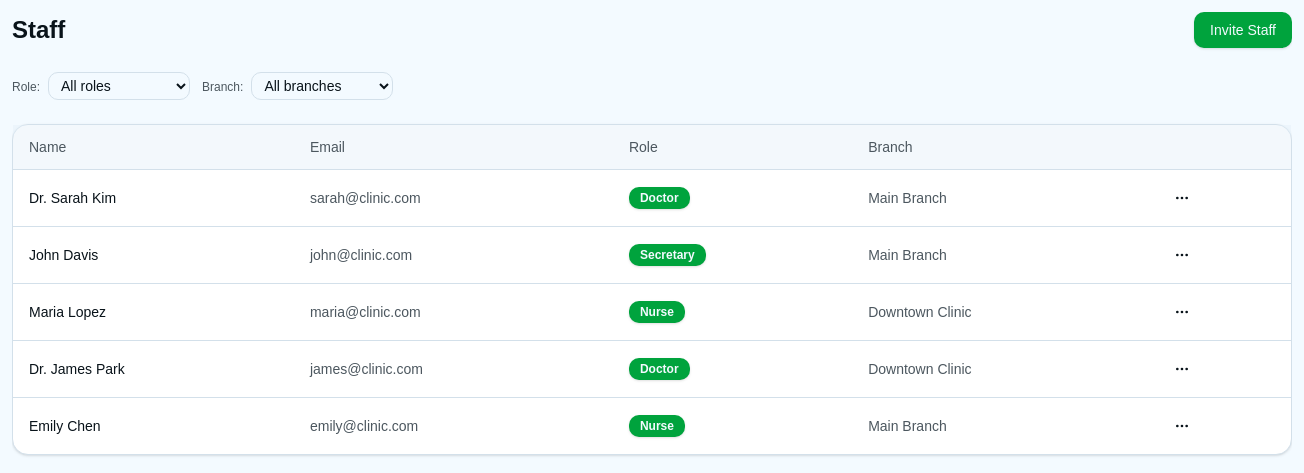
Scenario: StaffPage › deactivate via dropdown updates the row status
Expected: the text "Dr. Sarah Kim" is shown, [13,170,294,226]
Click the button without text in the row of "Dr. Sarah" at (1182, 198), box [1166,182,1198,214]
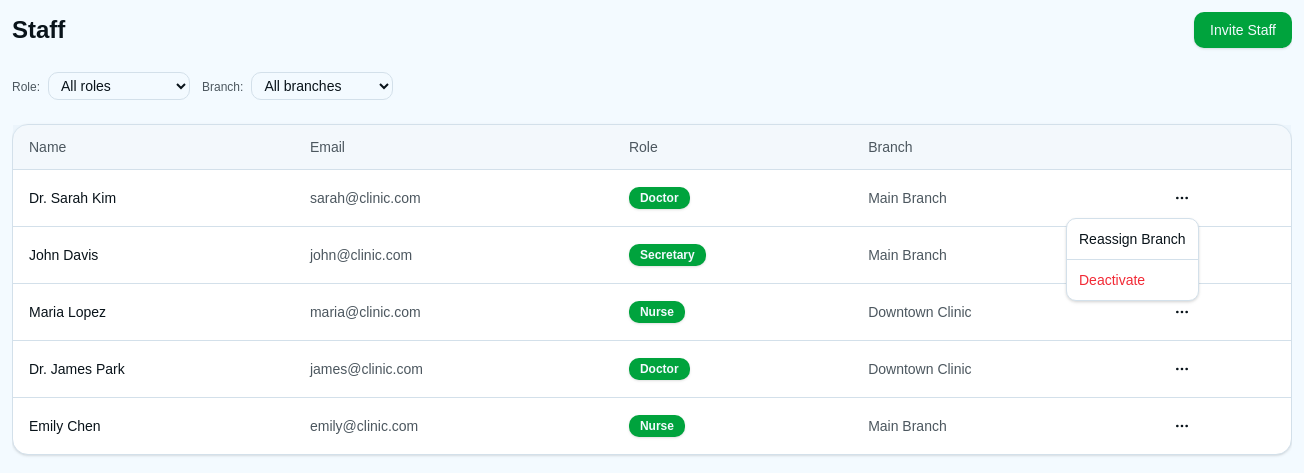
Now the menu item "Deactivate" is shown
Click the menu item "Deactivate" at (1112, 280), box [1079,272,1145,288]
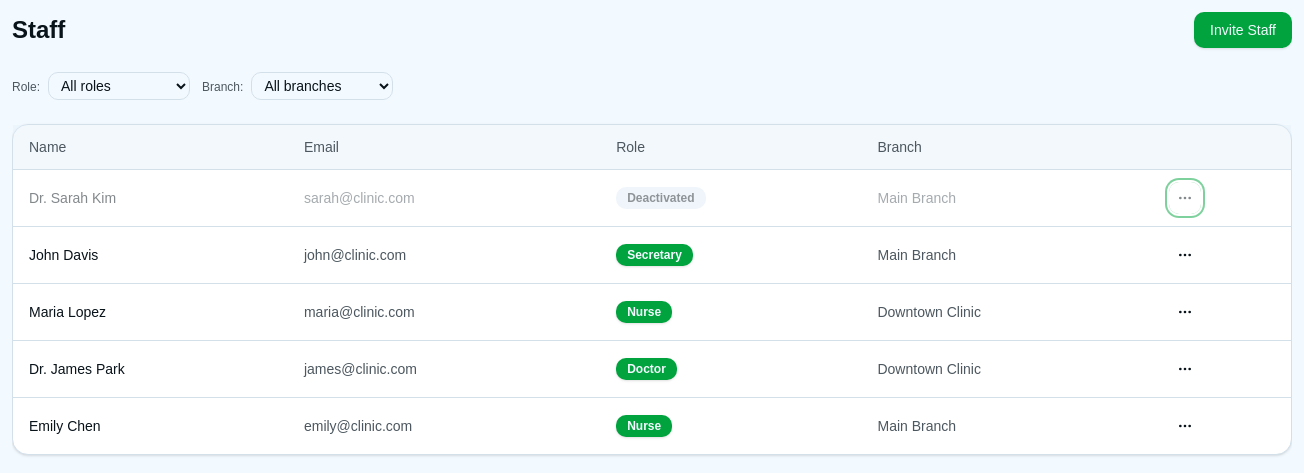
Now the text "Deactivated" is shown, box [616,187,706,209]
